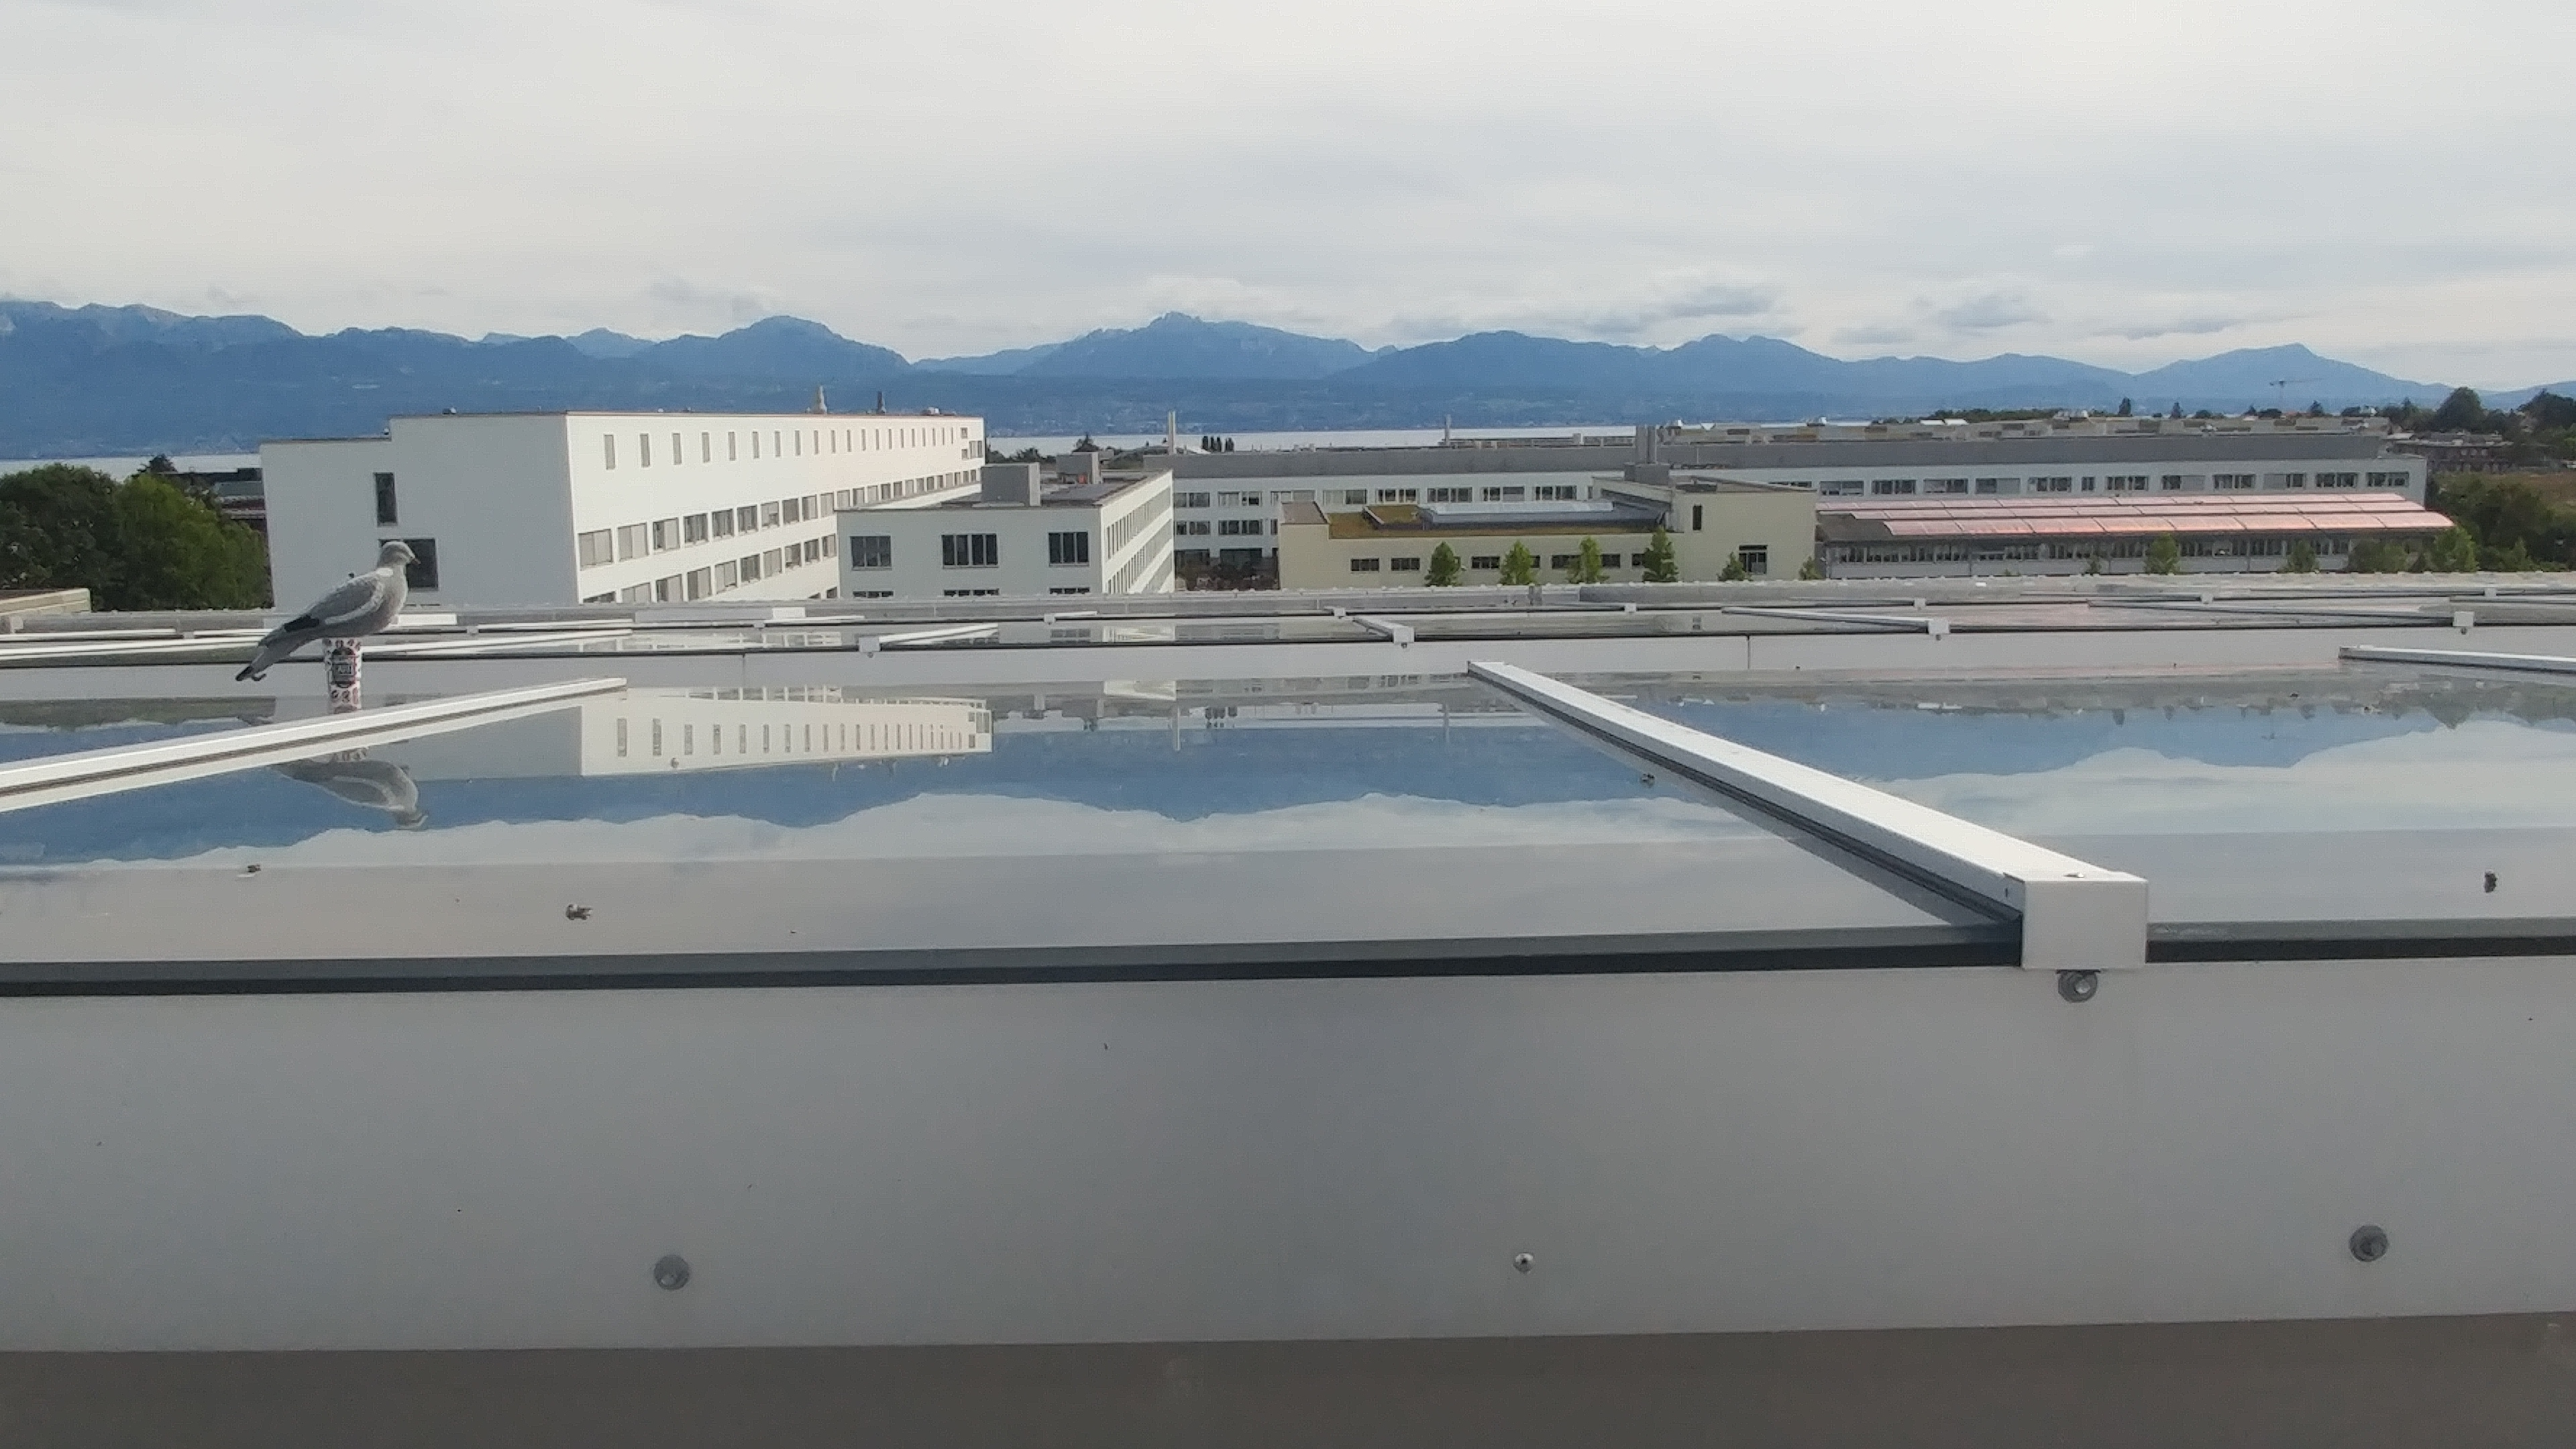Pigeon: (244, 541, 433, 658)
